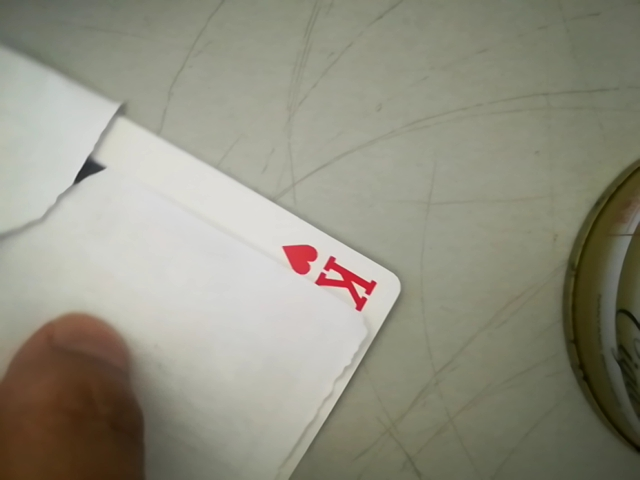hx k: (276, 234, 383, 311)
